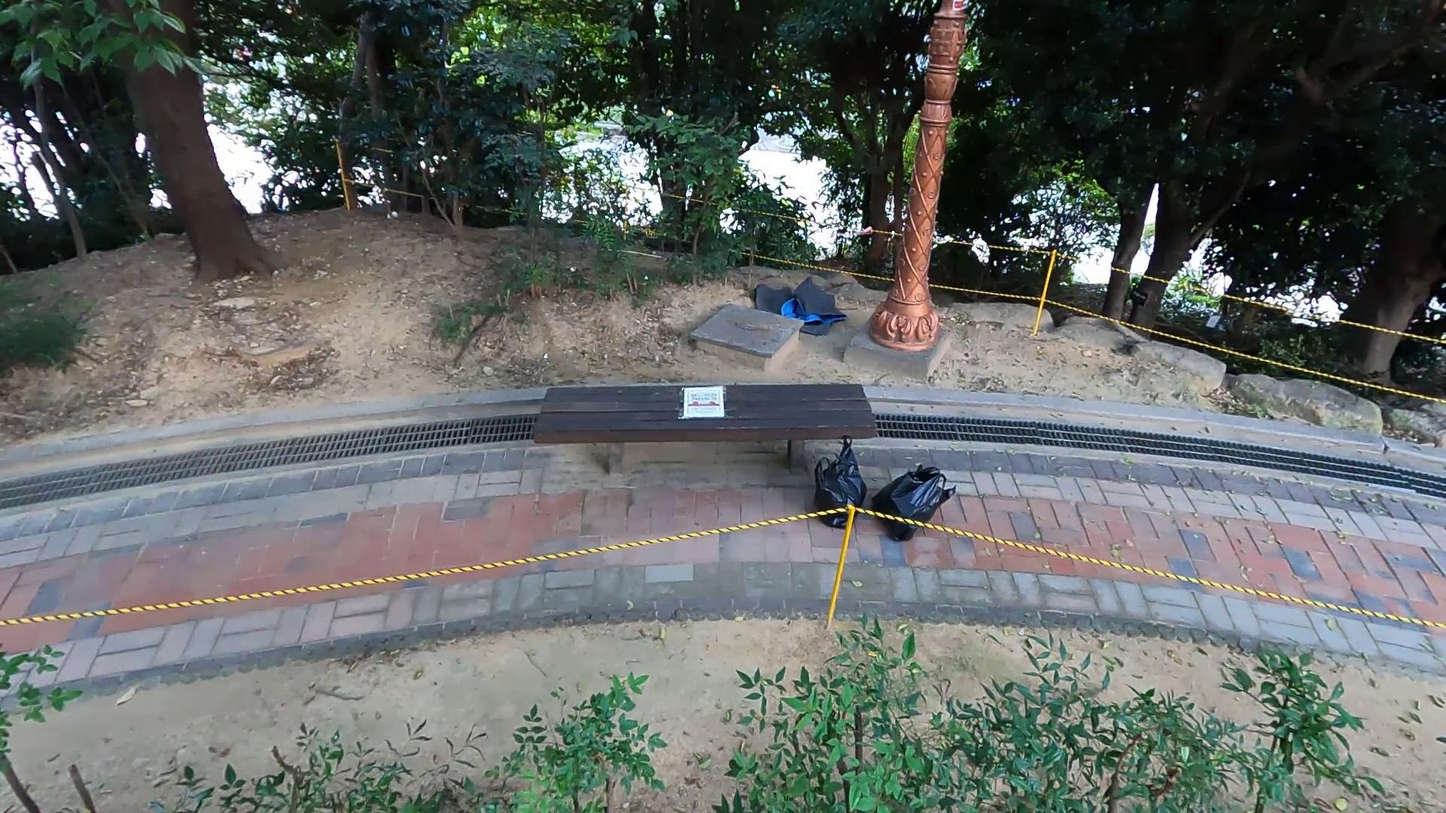trash: (751, 268, 851, 349), (868, 461, 960, 546), (803, 433, 870, 531)
